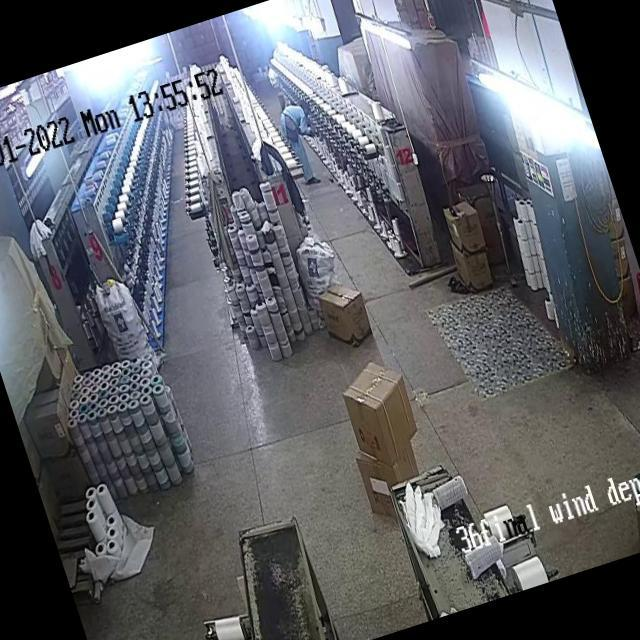person: (274, 94, 324, 180)
